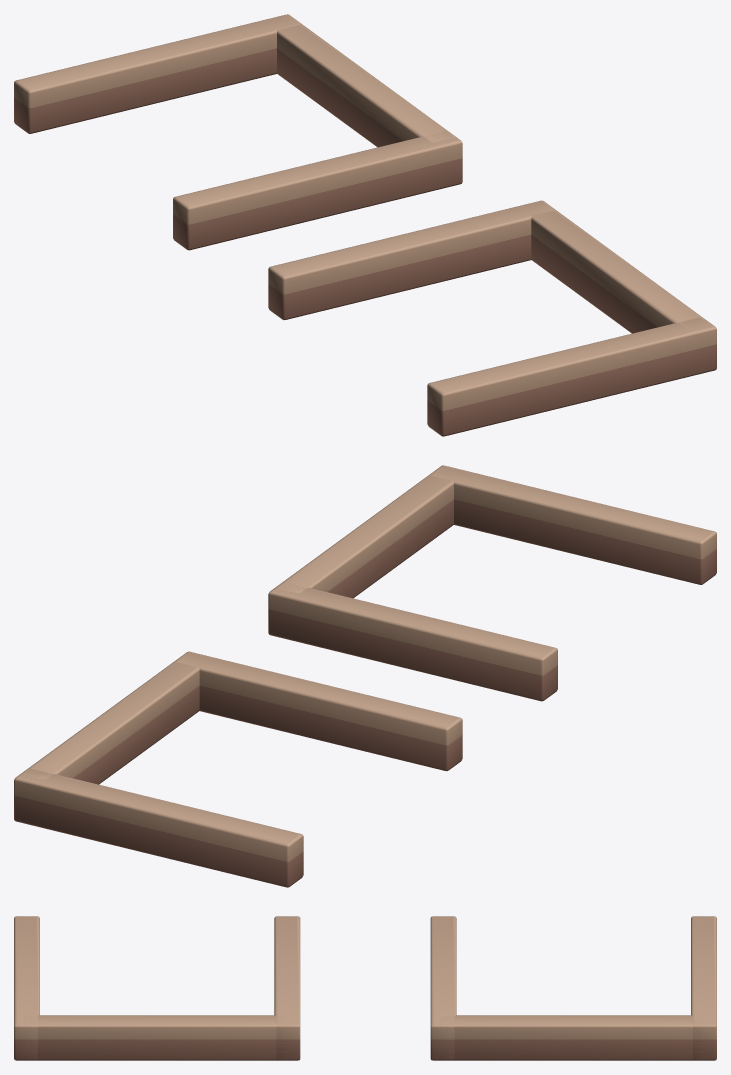
The model's file is Props.fbx.
The picture shows the model from 3 angles, top to bottom: view 1: azimuth 30°, elevation 25°; view 2: azimuth 150°, elevation 25°; view 3: azimuth 270°, elevation 25°; orthographic projection. The views are drawn at different scales.
Parts seen in each view (by area): view 1: Box20-3_2 (×2), Box20-3_2 (1) (×2), Box20-3_2 (2) (×2); view 2: Box20-3_2 (1) (×2), Box20-3_2 (×2), Box20-3_2 (2) (×2); view 3: Box20-3_2 (2) (×2), Box20-3_2 (×2), Box20-3_2 (1) (×2).
Boxes of the visible parts, <box> form: Box20-3_2 (×2): <box>173,131,716,436</box>; Box20-3_2 (1) (×2): <box>14,14,554,319</box>; Box20-3_2 (2) (×2): <box>272,18,709,333</box>; Box20-3_2 (1) (×2): <box>14,582,557,887</box>; Box20-3_2 (×2): <box>176,465,716,770</box>; Box20-3_2 (2) (×2): <box>21,470,459,784</box>; Box20-3_2 (2) (×2): <box>24,1015,706,1060</box>; Box20-3_2 (×2): <box>14,916,456,1060</box>; Box20-3_2 (1) (×2): <box>274,916,716,1060</box>.
Size of the model in its own units: 10 by 1.5 by 27.
